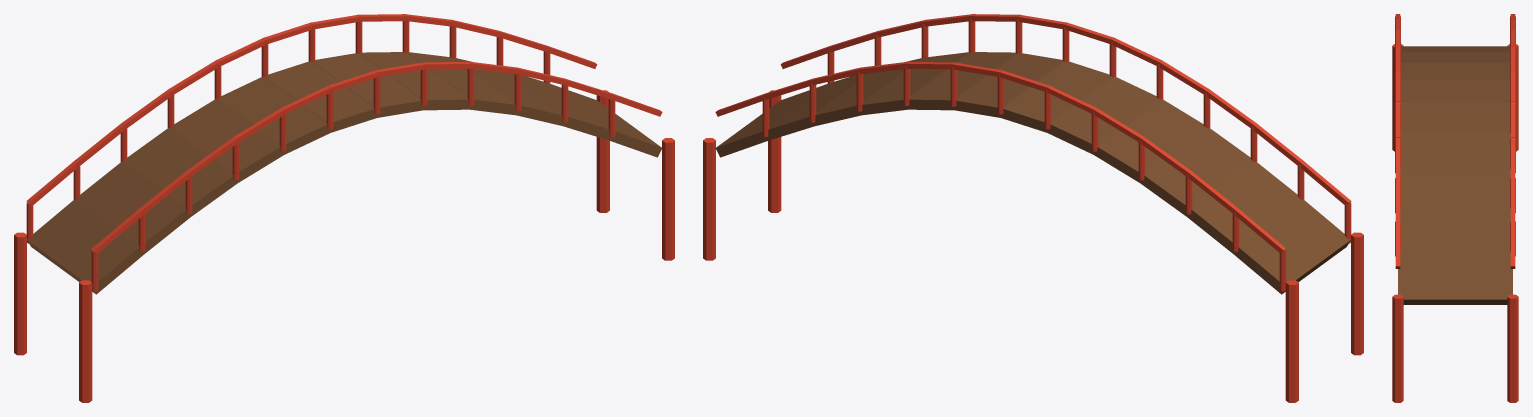
The model's file is taikobashi.glb.
The picture shows the model from 3 angles, left to right: view 1: azimuth 30°, elevation 25°; view 2: azimuth 150°, elevation 25°; view 3: azimuth 270°, elevation 25°; orthographic projection. The views are drawn at different scales.
Parts seen in each view (by area): view 1: taikobashi; view 2: taikobashi; view 3: taikobashi.
Boxes of the visible parts, box(x1,y1,x2,y2) form: taikobashi: box(14, 14, 674, 402); taikobashi: box(703, 14, 1363, 402); taikobashi: box(1392, 14, 1518, 402).
Size of the model in its own units: 12.61 by 5.25 by 2.64.
